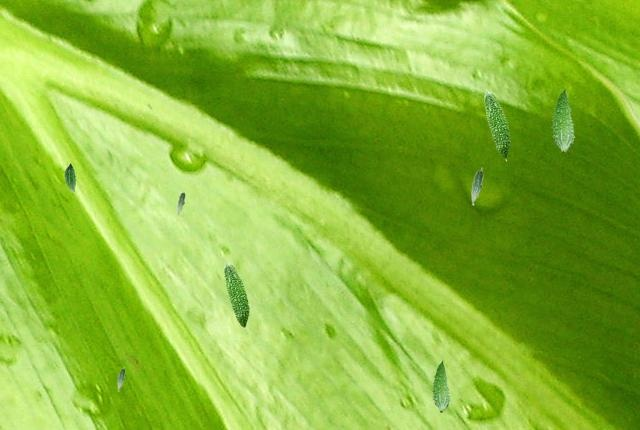ampalaya: (483, 90, 511, 162), (223, 262, 250, 330), (551, 87, 575, 154), (431, 359, 451, 413), (470, 167, 483, 205), (64, 162, 76, 192), (117, 366, 125, 391), (177, 190, 185, 215)
